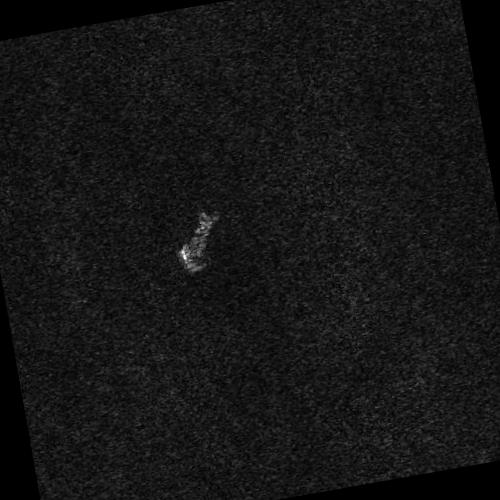ship: (179, 212, 217, 271)
